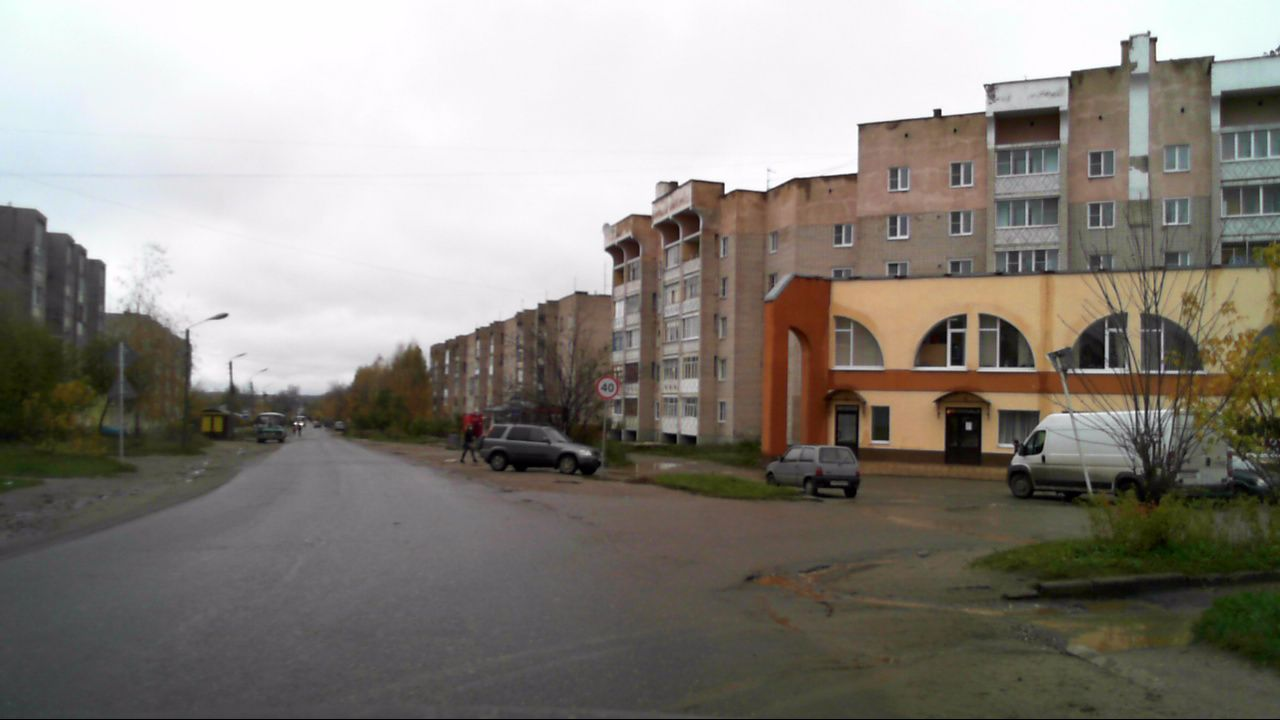speed_warning_40: (595, 375, 621, 399)
